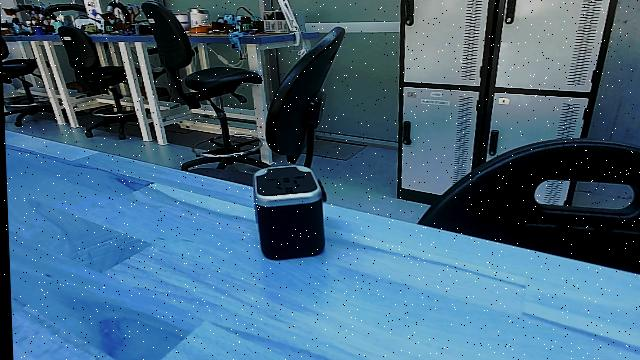adapter: (246, 163, 327, 261)
